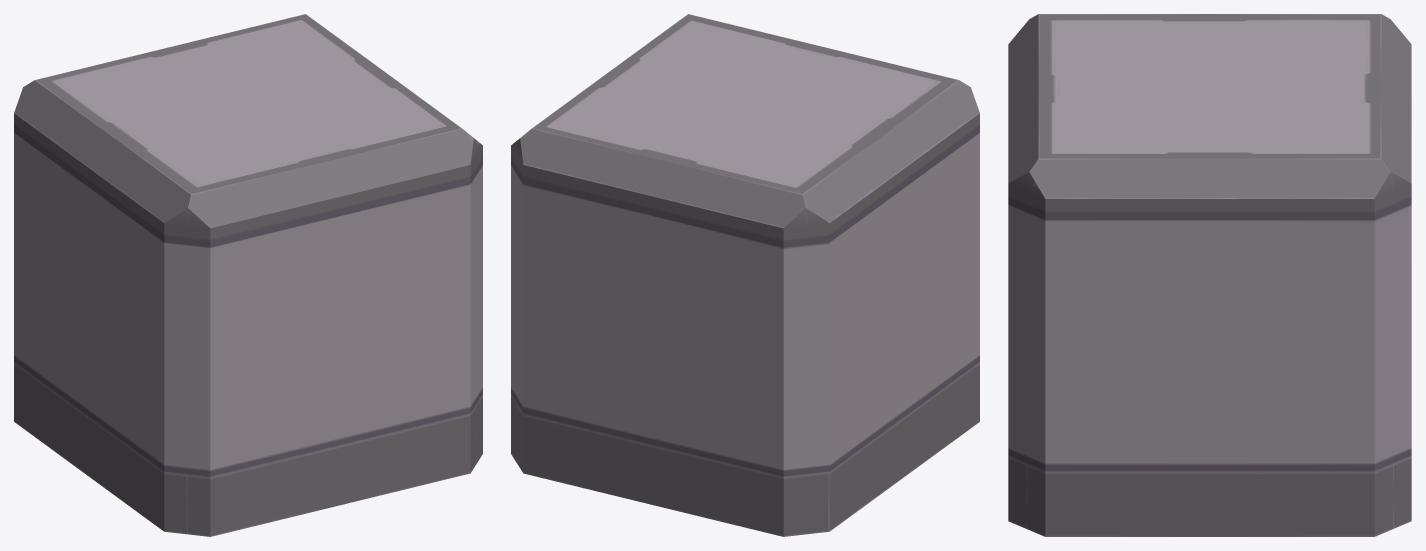
The model's file is wall.fbx.
3 views of the same model, side by side, from view 1: azimuth 30°, elevation 25°; view 2: azimuth 150°, elevation 25°; view 3: azimuth 270°, elevation 25° (orthographic). The views are drawn at different scales.
Visible parts, largest first — view 1: pCube1; view 2: pCube1; view 3: pCube1.
Boxes of the visible parts, box(x1,y1,x2,y2) form: pCube1: box(14, 14, 482, 536); pCube1: box(511, 14, 979, 536); pCube1: box(1008, 14, 1411, 536).
Bounding box in the file's own units: 1 × 1 × 1.
Materials: 1 (1 with a texture image).
